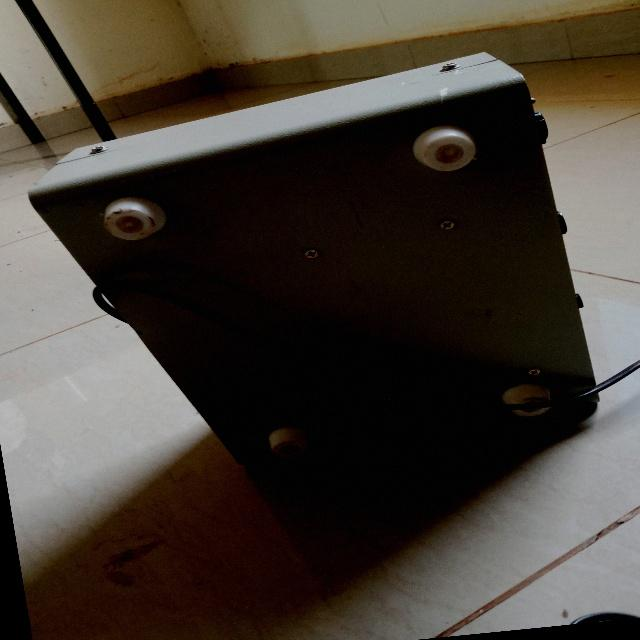Function Generator 100Khz: (1, 39, 640, 482)
